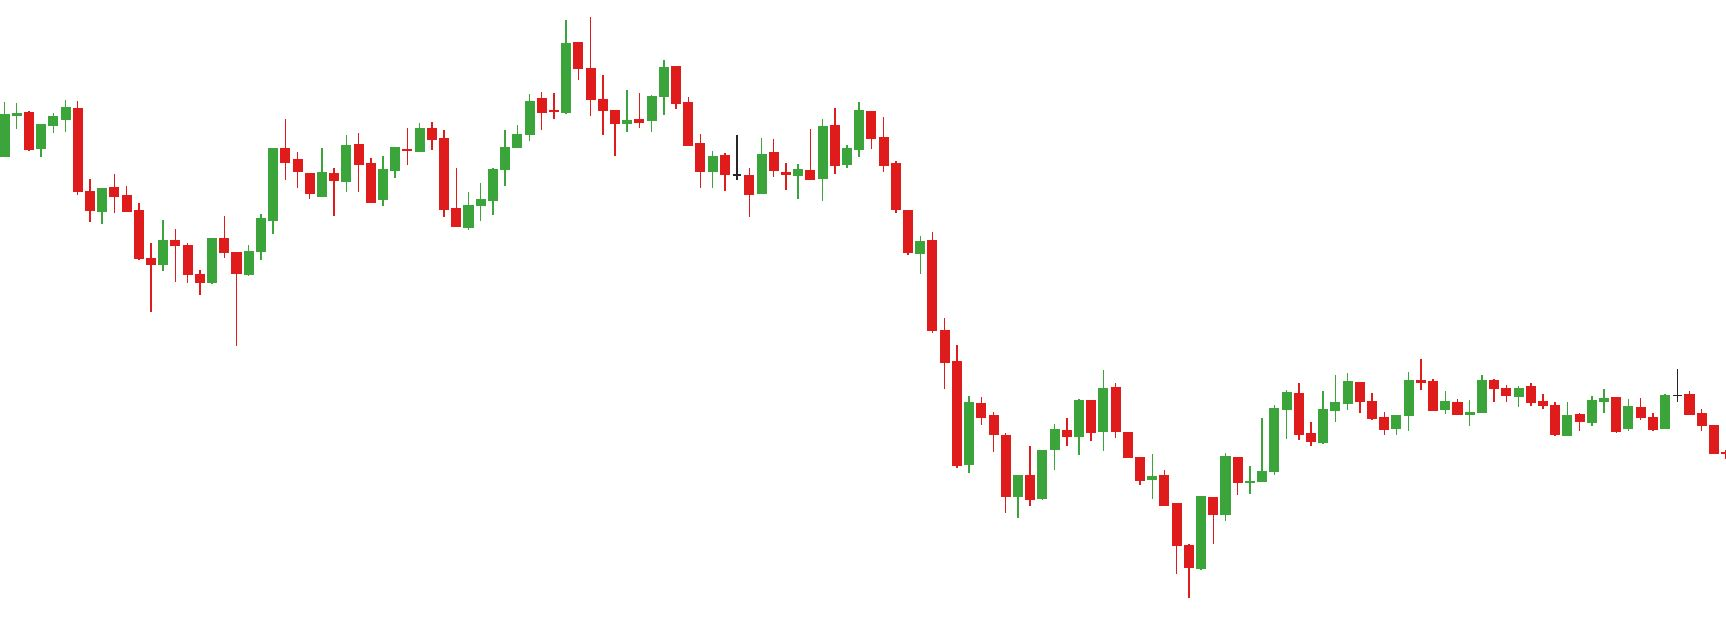buy: (999, 424, 1211, 601), (327, 160, 476, 233), (146, 242, 244, 347)
sell: (727, 107, 843, 193)
